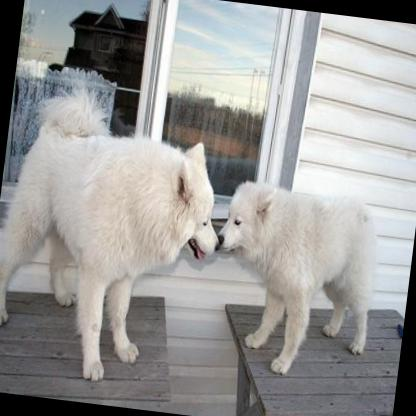Samoyed: (0, 74, 236, 394), (200, 173, 384, 385)
